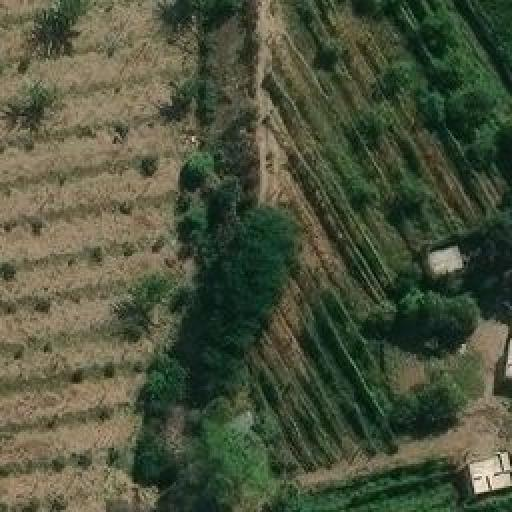manzanas: (456, 444, 510, 503), (420, 237, 472, 281)
